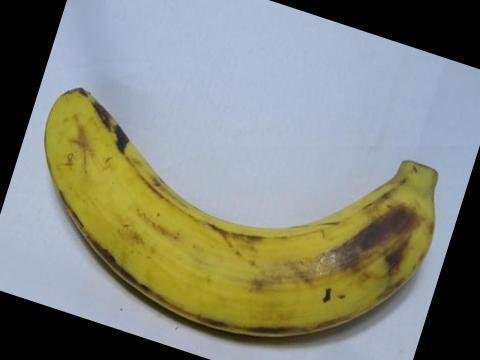overripe: (29, 80, 441, 354)
